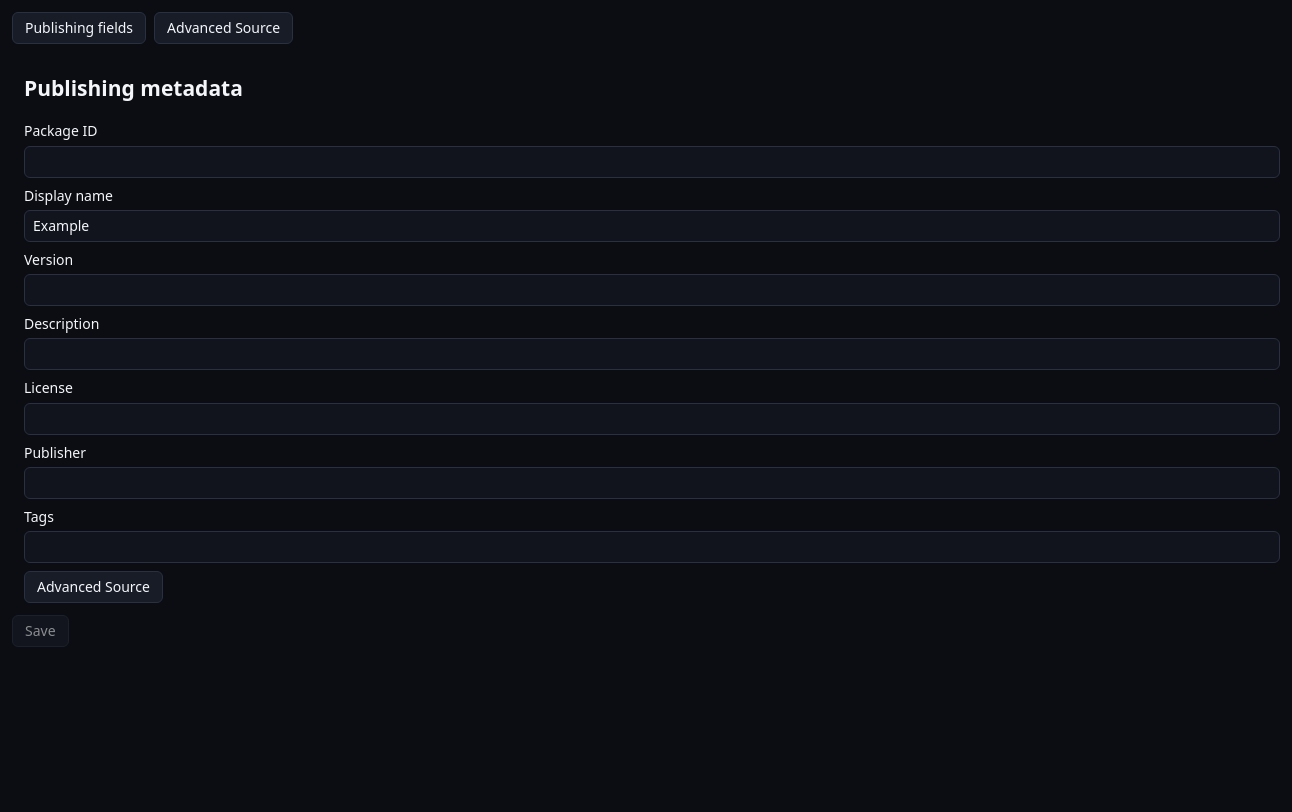
Test case: switches to current source without replacing unknown manifest properties
Click the tab "Advanced Source". click: point(224, 28)
box: 154,12 -> 293,44
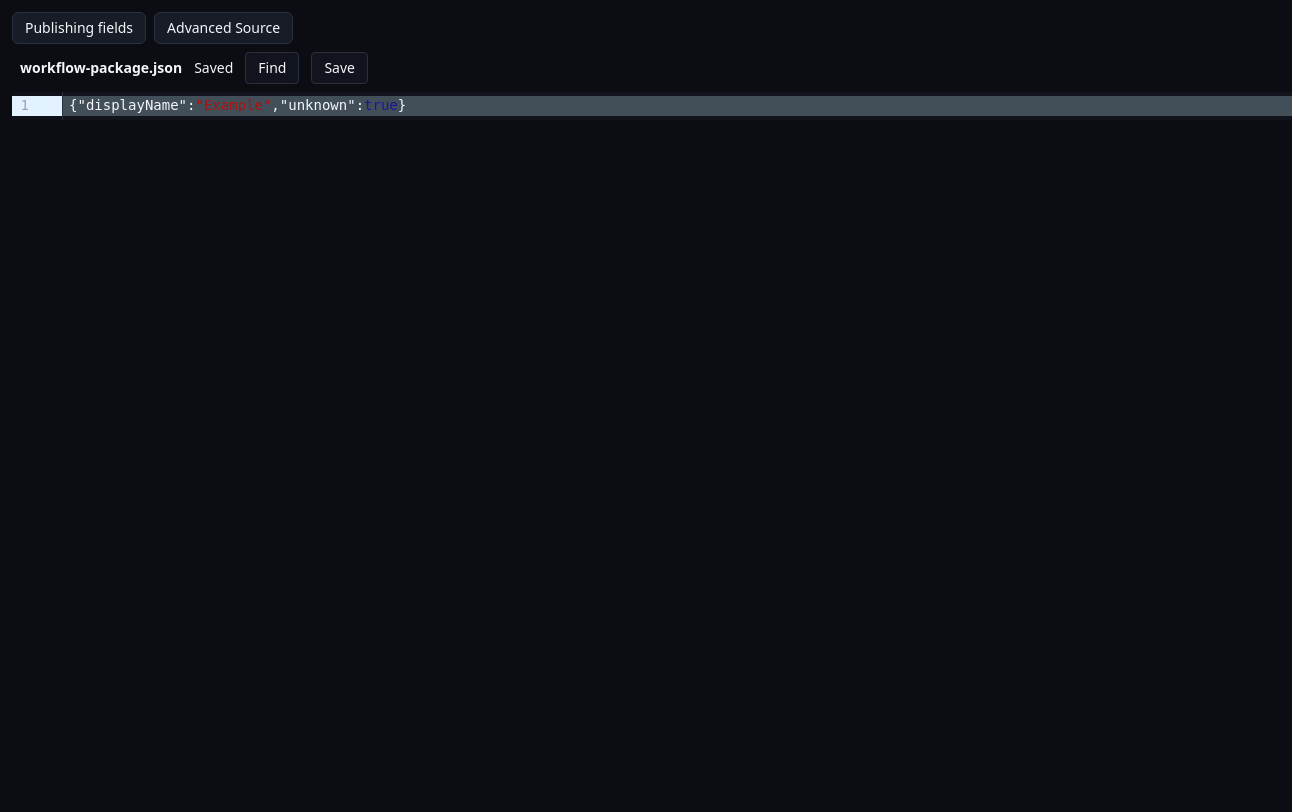
Result: the field named "workflow-package.json" is shown at 63,92 -> 1291,120
